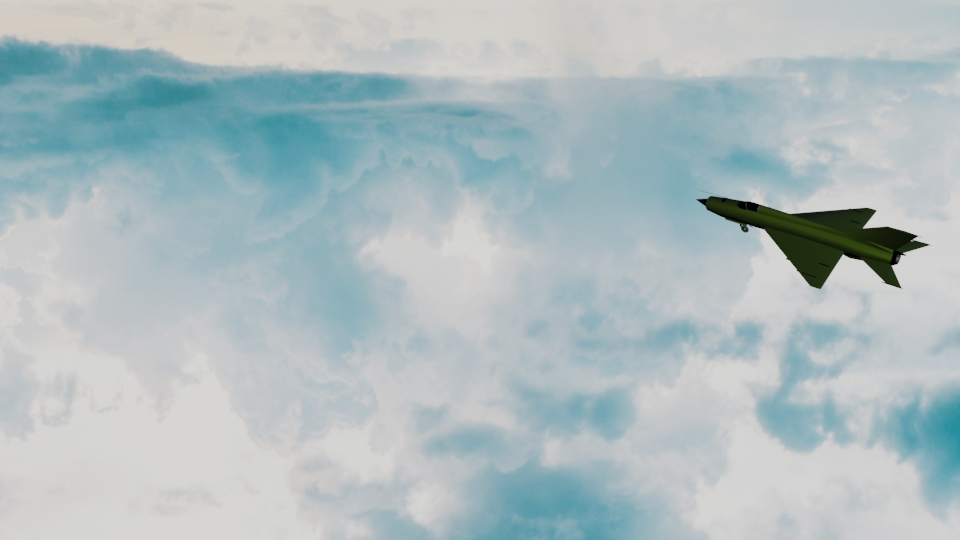plane: (698, 189, 927, 290)
